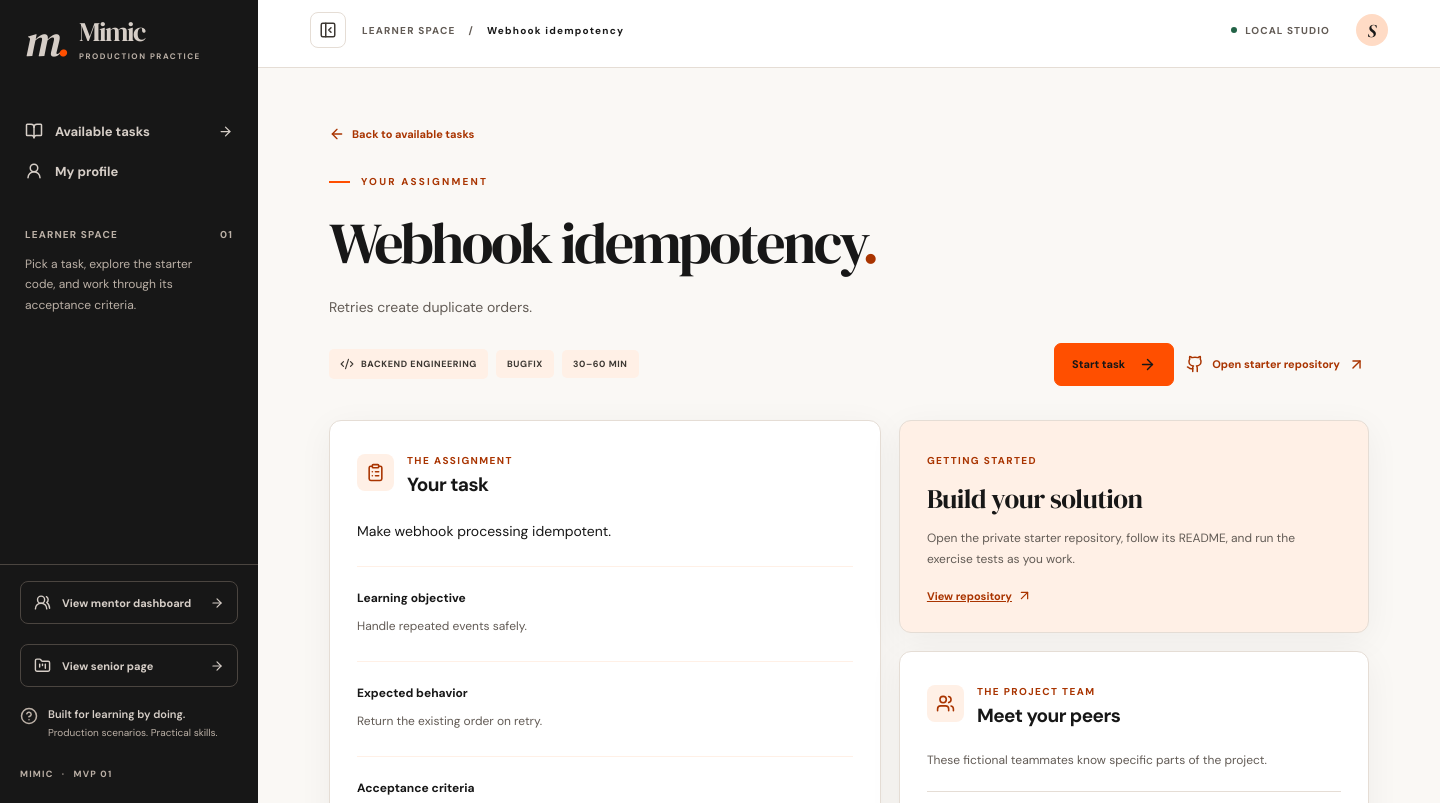
Test: retains a draft after a provider error, then retries the message successfully
This screenshot has width=1440, height=803.
Click the button "Start task" at (1114, 364), box x1=1054 y1=343 x2=1174 y2=386
(page scrolled)
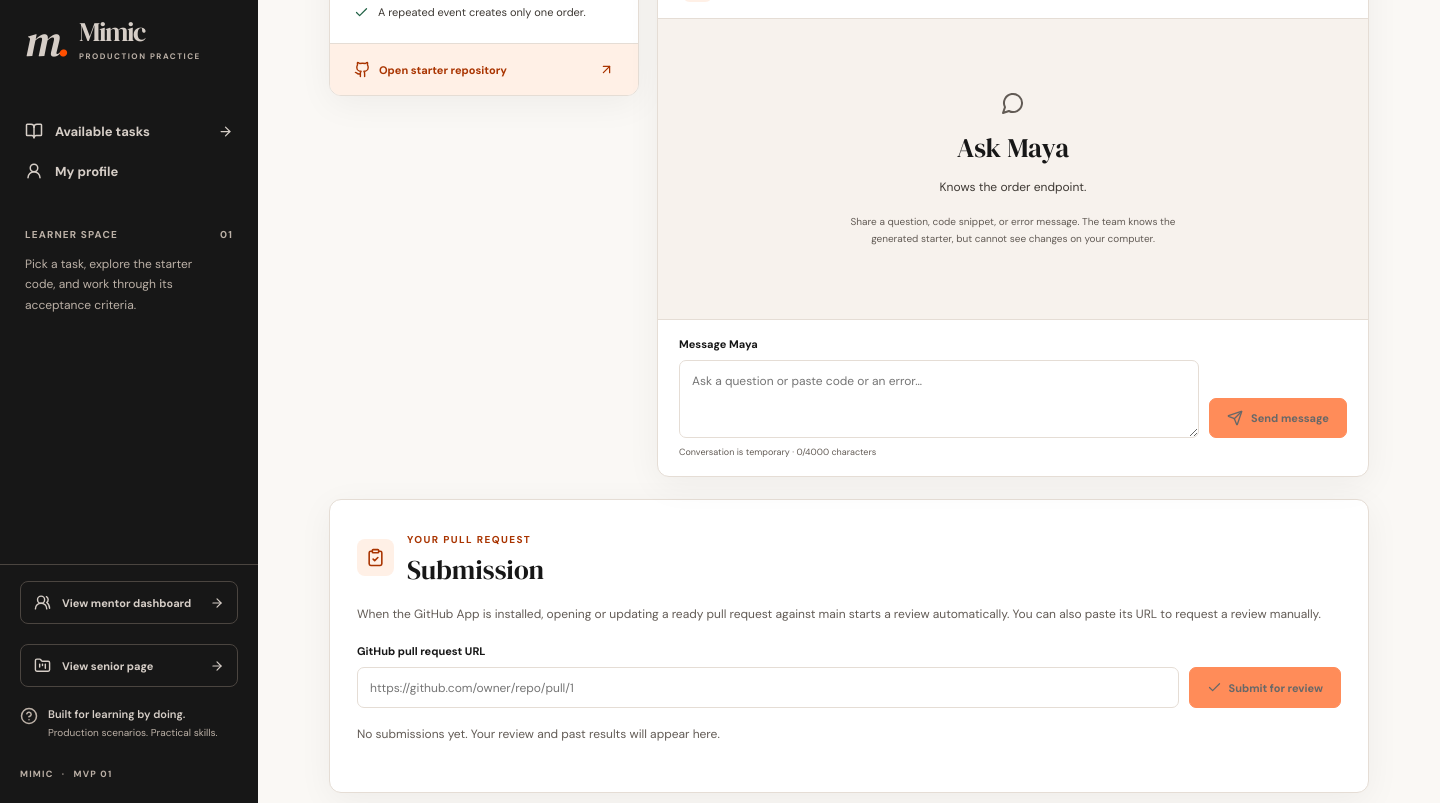
Type "Here is my traceback" into the text box labelled "Message Maya" at (939, 399), box x1=679 y1=360 x2=1199 y2=438
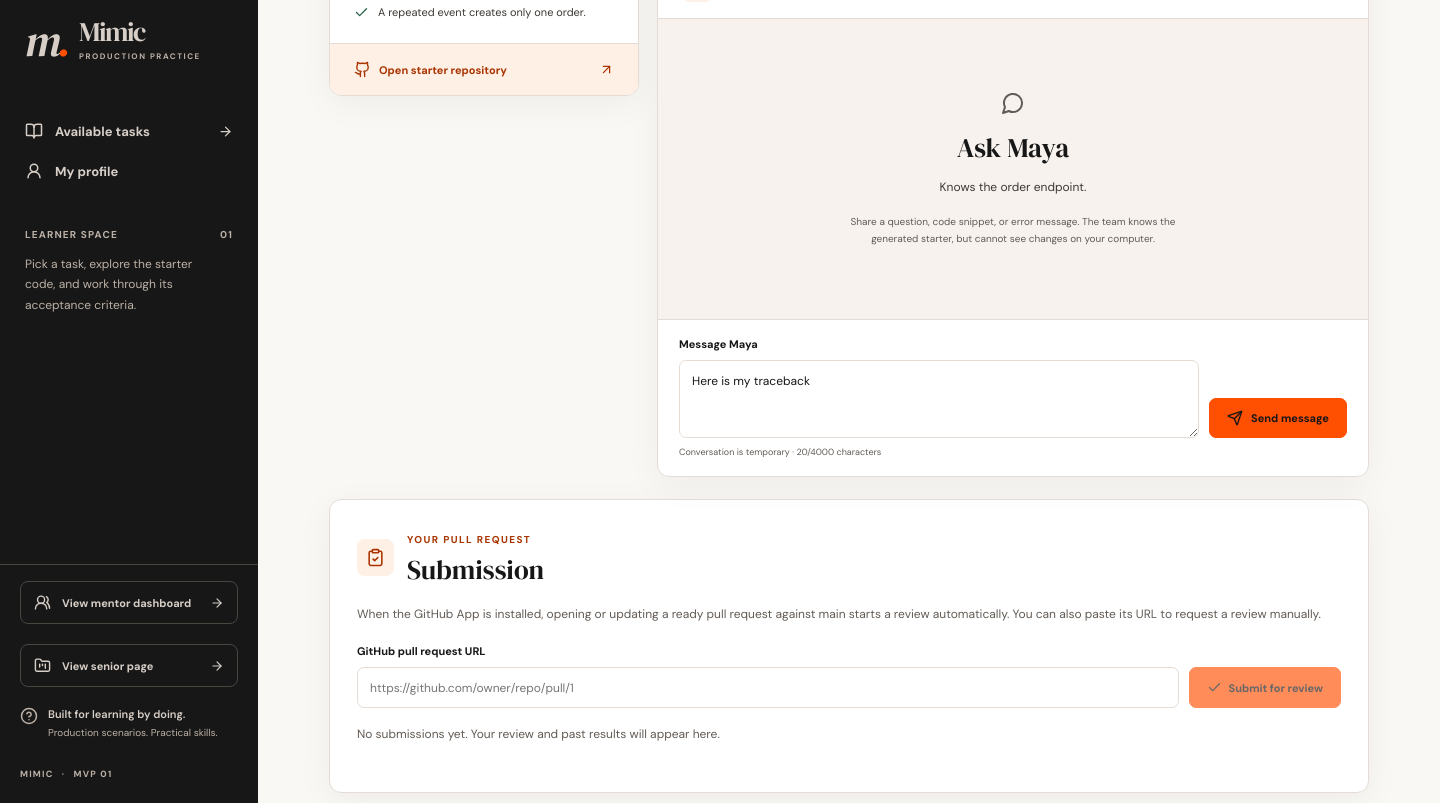
Click the button "Send message" at (1278, 418), box x1=1209 y1=398 x2=1347 y2=438
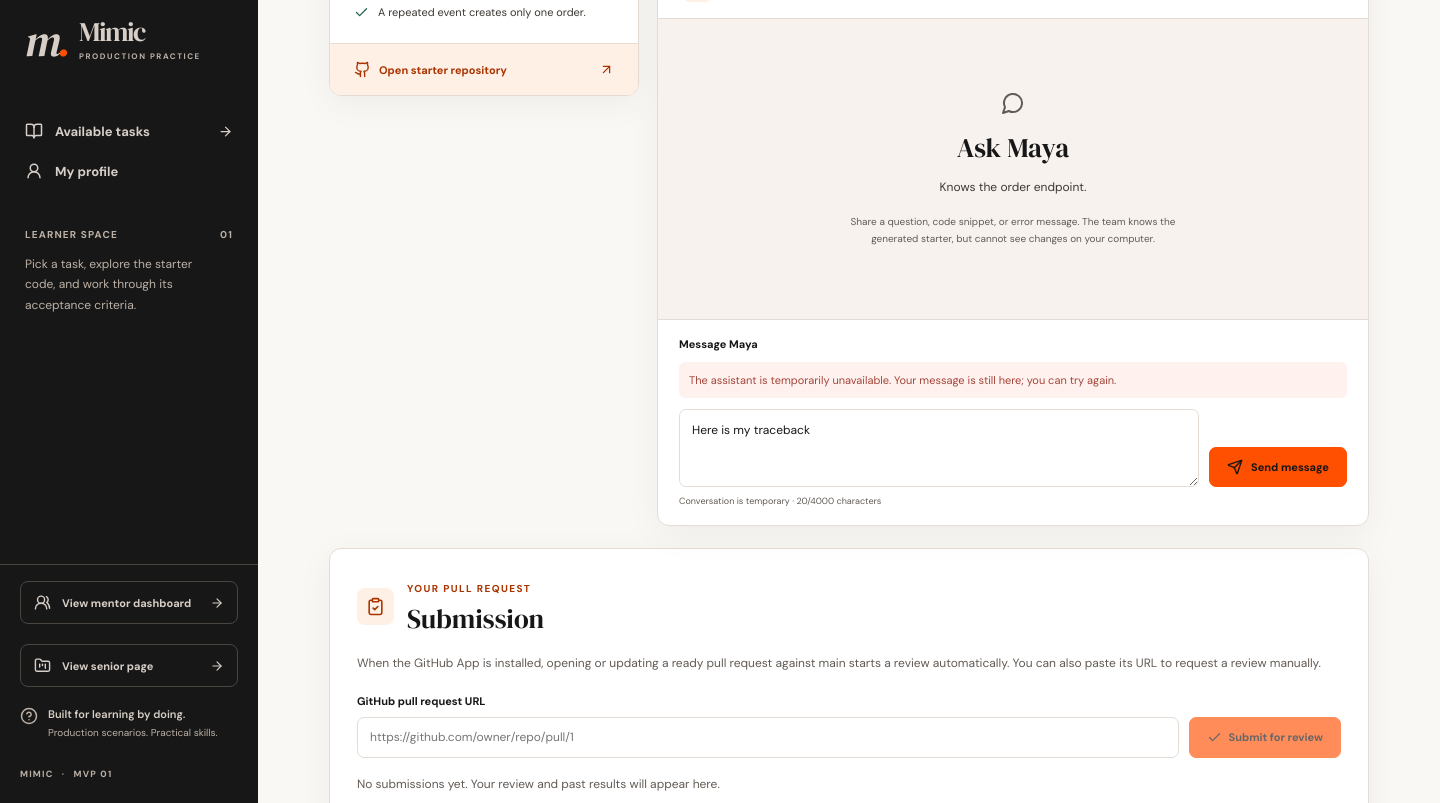
Now the message shows "The assistant is temporarily unavailable.", box x1=689 y1=373 x2=891 y2=387
Click the button "Send message" at (1278, 468), box x1=1209 y1=448 x2=1347 y2=488
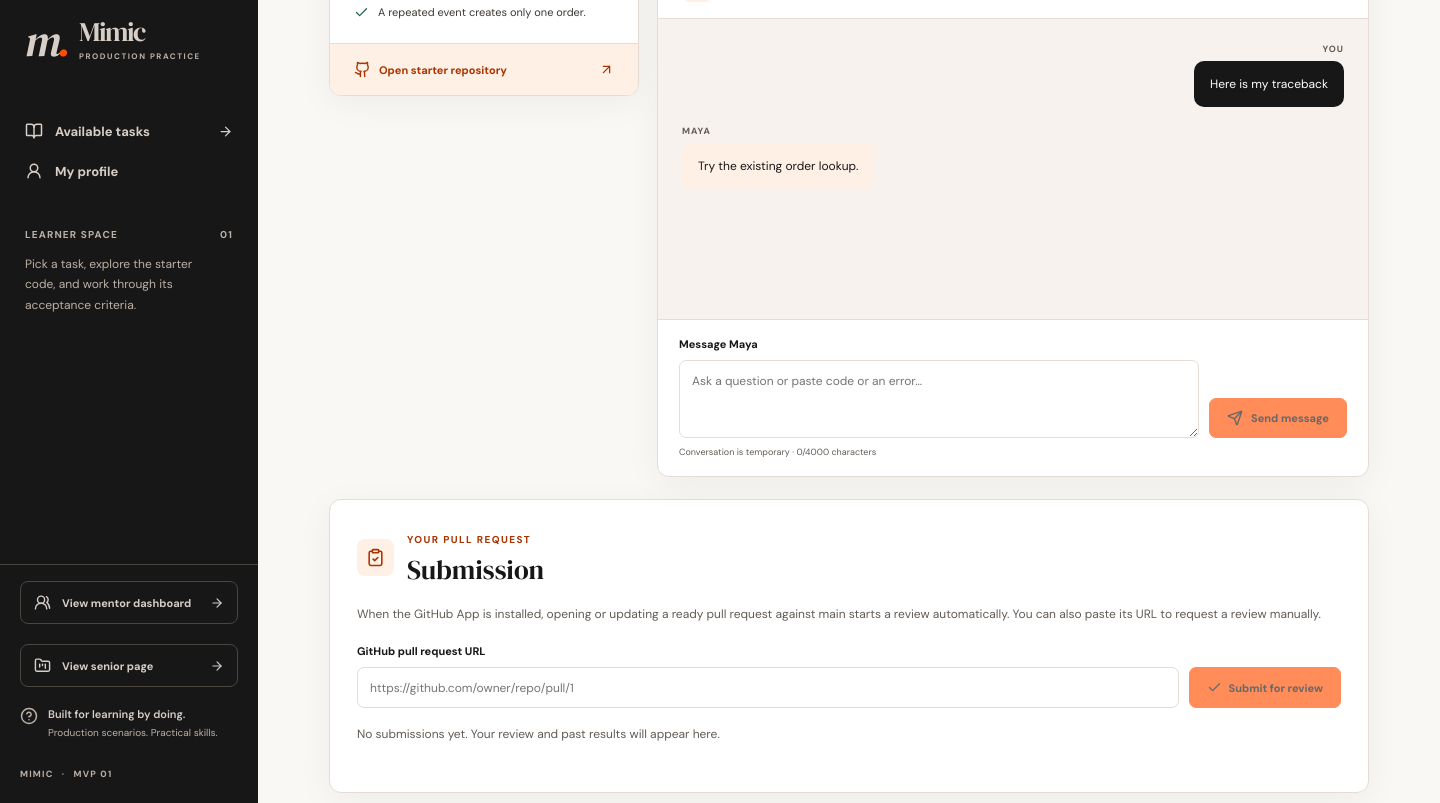
Now the text box labelled "Message Maya" is empty, box x1=679 y1=360 x2=1199 y2=438
Now the text "Try the existing order lookup." is shown, box x1=698 y1=156 x2=858 y2=177
